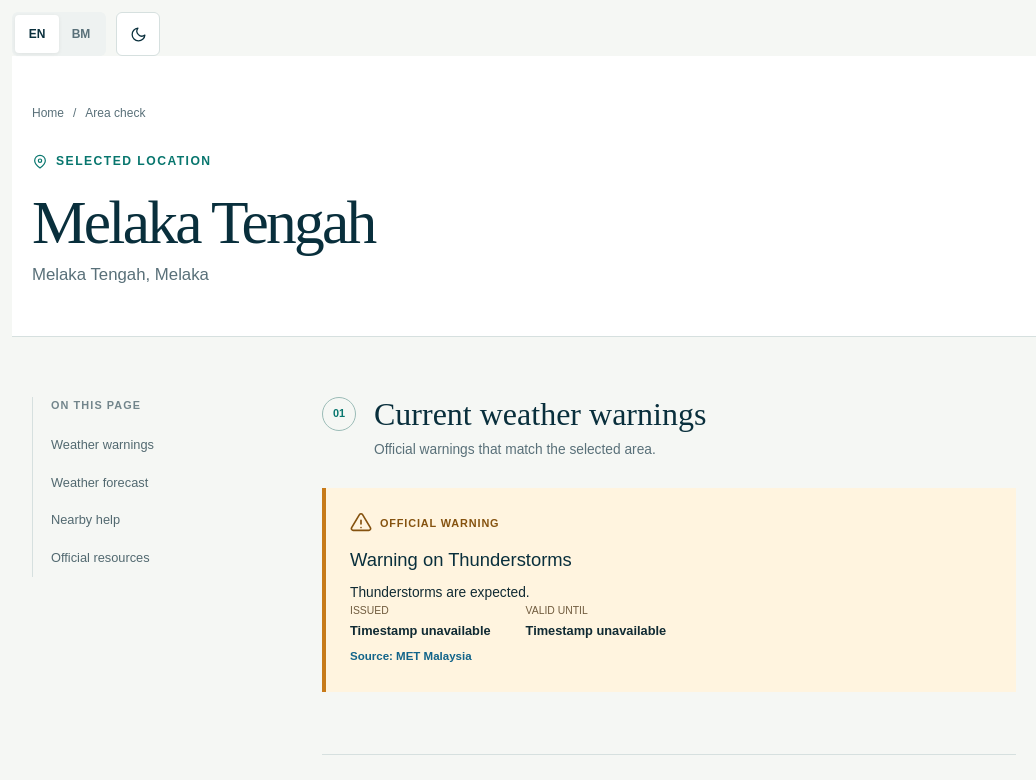
Scenario: area warning localization › uses official BM warning copy in BM mode and English copy in EN mode
Check: the heading "Warning on Thunderstorms" is shown, box [350, 549, 572, 570]
Check: the text "Thunderstorms are expected." is shown, box [350, 585, 530, 600]
Click the button with aria-label "Bahasa Melayu".
click(81, 34)  # box [59, 15, 103, 53]
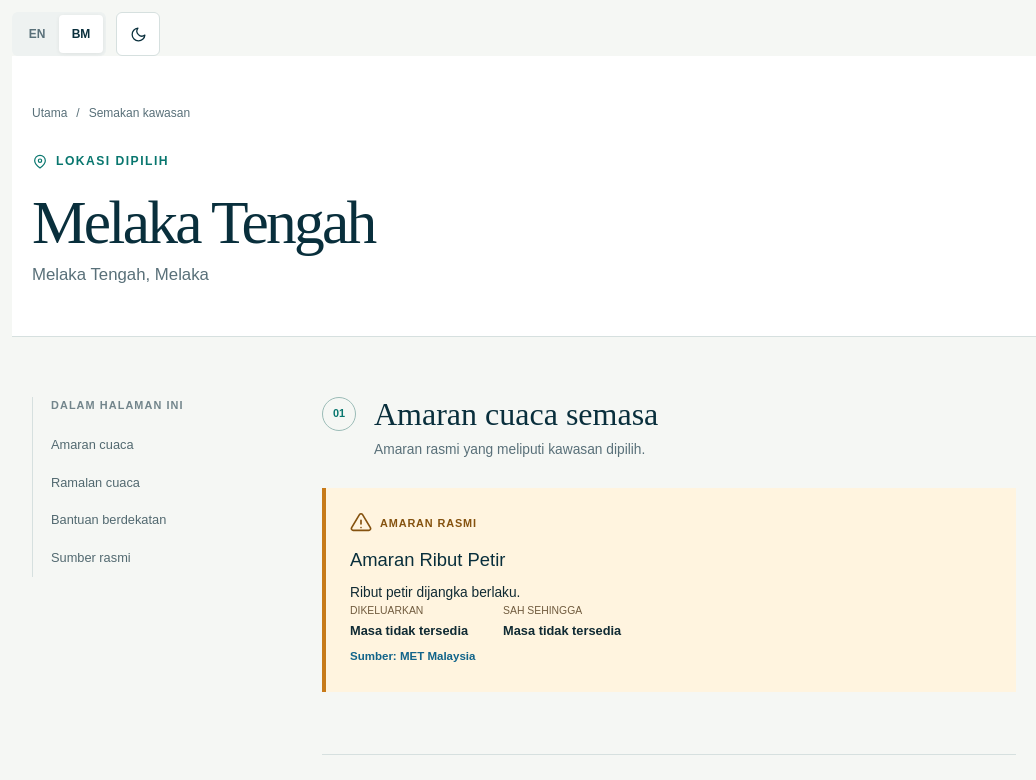
Check: the heading "Amaran Ribut Petir" is shown, box [350, 549, 505, 570]
Check: the text "Ribut petir dijangka berlaku." is shown, box [350, 585, 520, 600]
Check: the text "Thunderstorms are expected." is gone
